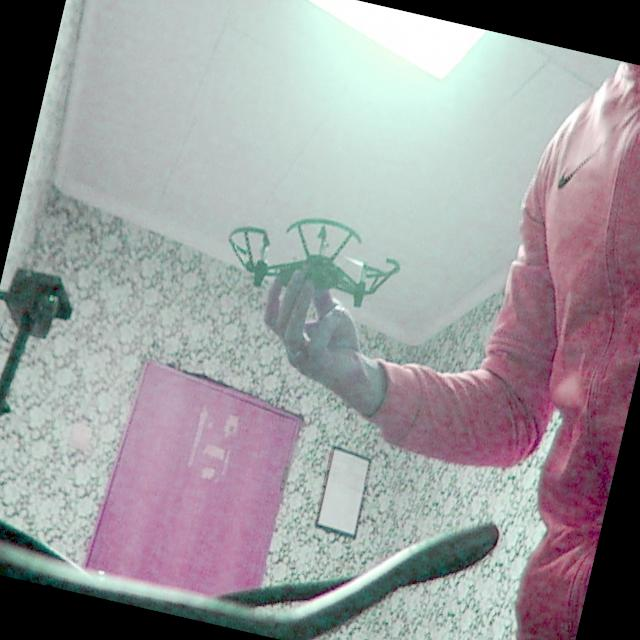drone: (202, 185, 411, 344)
